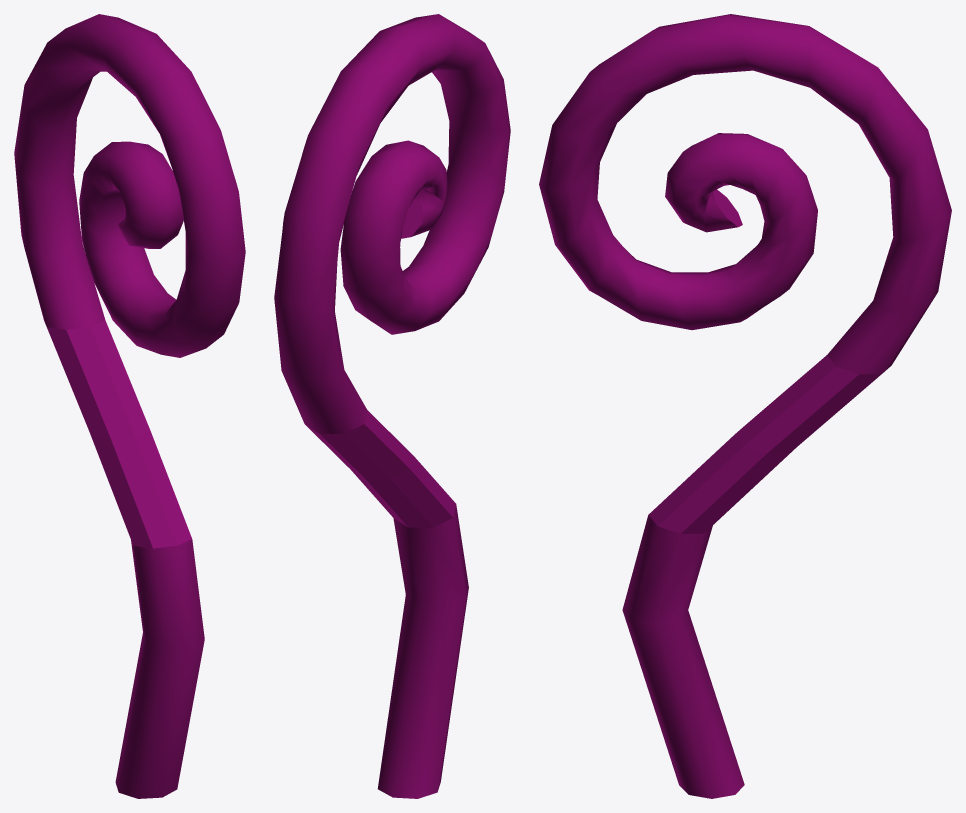
File: spiralplant.obj
3 views of the same model, side by side, from view 1: azimuth 30°, elevation 25°; view 2: azimuth 150°, elevation 25°; view 3: azimuth 270°, elevation 25° (orthographic). The views are drawn at different scales.
Visible parts, largest first — view 1: Cylinder002; view 2: Cylinder002; view 3: Cylinder002.
Boxes of the visible parts, x1,y1,x2,y2 form: Cylinder002: [14, 14, 245, 798]; Cylinder002: [274, 14, 510, 798]; Cylinder002: [539, 14, 951, 798].
Bounding box in the file's own units: 2.04 × 26.26 × 12.78.
